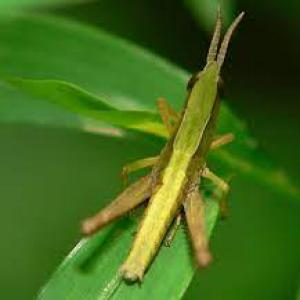locust: (81, 19, 253, 287)
